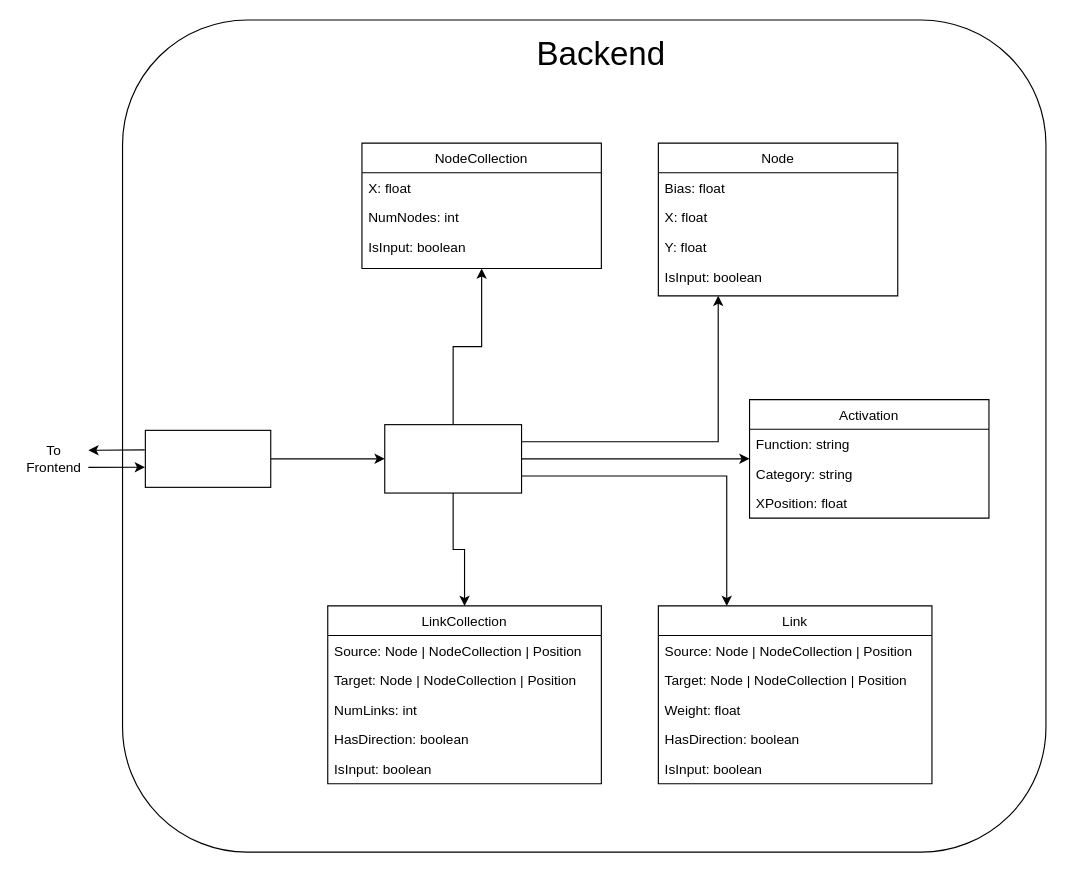
Image size: 1066x872. Some labels were removed from this diagram. Here are the shapes that lost their labels. From the top down, the box of each, then its label:
(144, 429, 271, 487): API
(384, 424, 522, 493): Graph Controller
